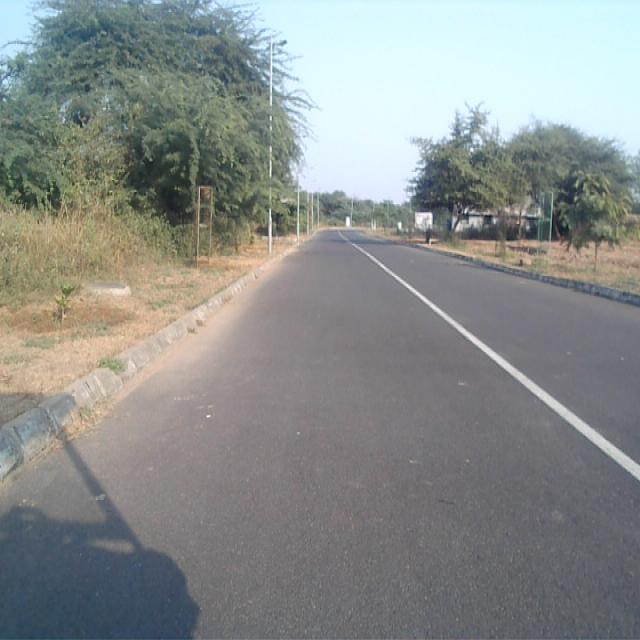lane: (0, 230, 640, 640)
